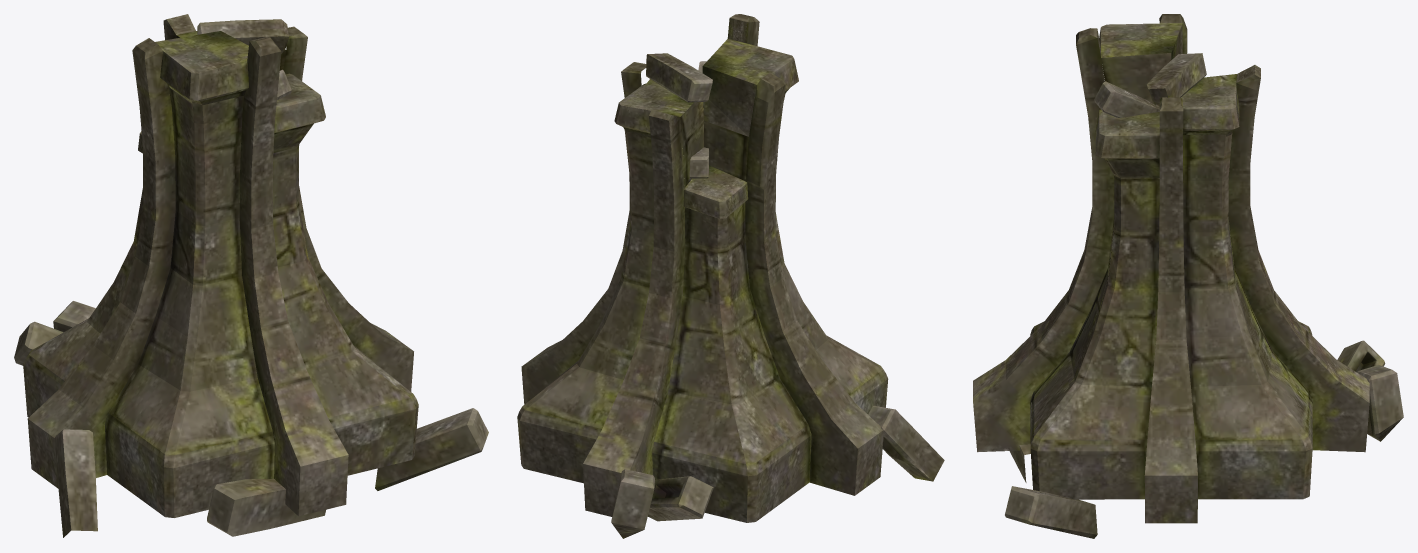
Rendered from Tyros_Brazier_Broken_01-transformed.glb.
3 views of the same model, side by side, from view 1: azimuth 30°, elevation 25°; view 2: azimuth 150°, elevation 25°; view 3: azimuth 270°, elevation 25° (orthographic). The views are drawn at different scales.
Visible parts, largest first — view 1: default; view 2: default; view 3: default.
Boxes of the visible parts, bbox=[...] form: default: bbox=[14, 14, 488, 537]; default: bbox=[517, 14, 944, 538]; default: bbox=[973, 14, 1403, 538].
Bounding box in the file's own units: 2.98 × 3.39 × 2.93.
Materials: 1 (1 with a texture image).
